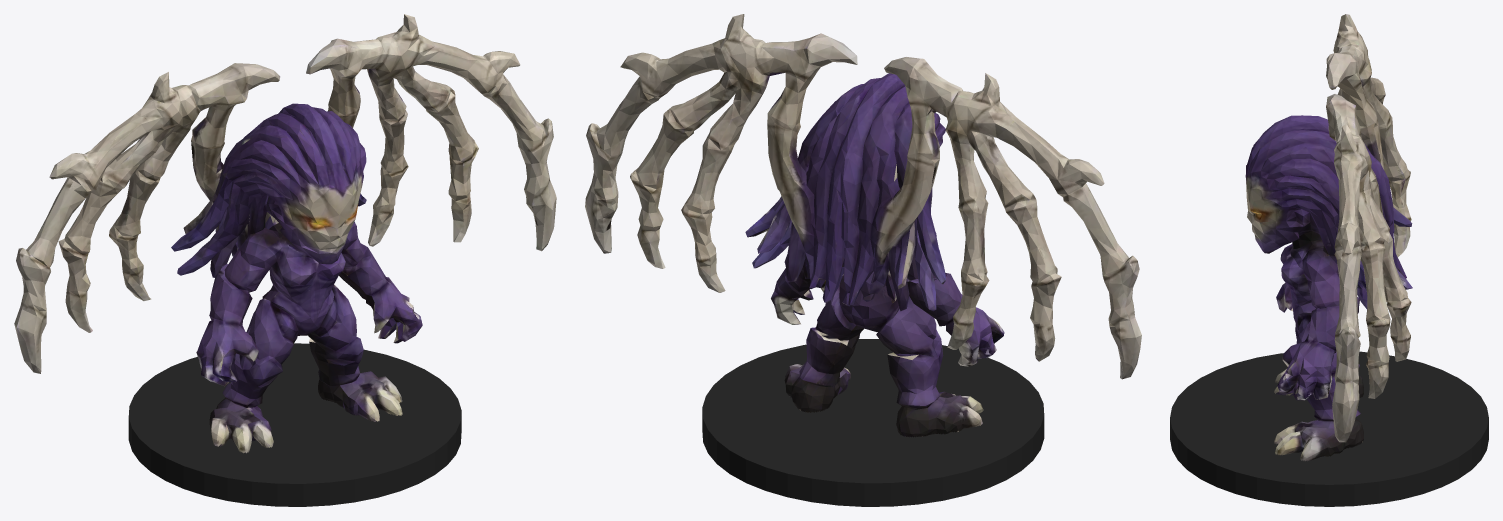
File: kerrigan.glb
The picture shows the model from 3 angles, left to right: view 1: azimuth 30°, elevation 25°; view 2: azimuth 150°, elevation 25°; view 3: azimuth 270°, elevation 25°; orthographic projection. The views are drawn at different scales.
Parts seen in each view (by area): view 1: figure, base; view 2: figure, base; view 3: figure, base.
Boxes of the visible parts, x1,y1,x2,y2 form: figure: (14, 14, 556, 453); base: (128, 343, 461, 506); figure: (585, 14, 1141, 437); base: (702, 339, 1044, 506); figure: (1245, 14, 1412, 461); base: (1170, 351, 1488, 506).
Bounding box in the file's own units: 2.95 × 2.02 × 1.57.
2 materials, 1 textured.
